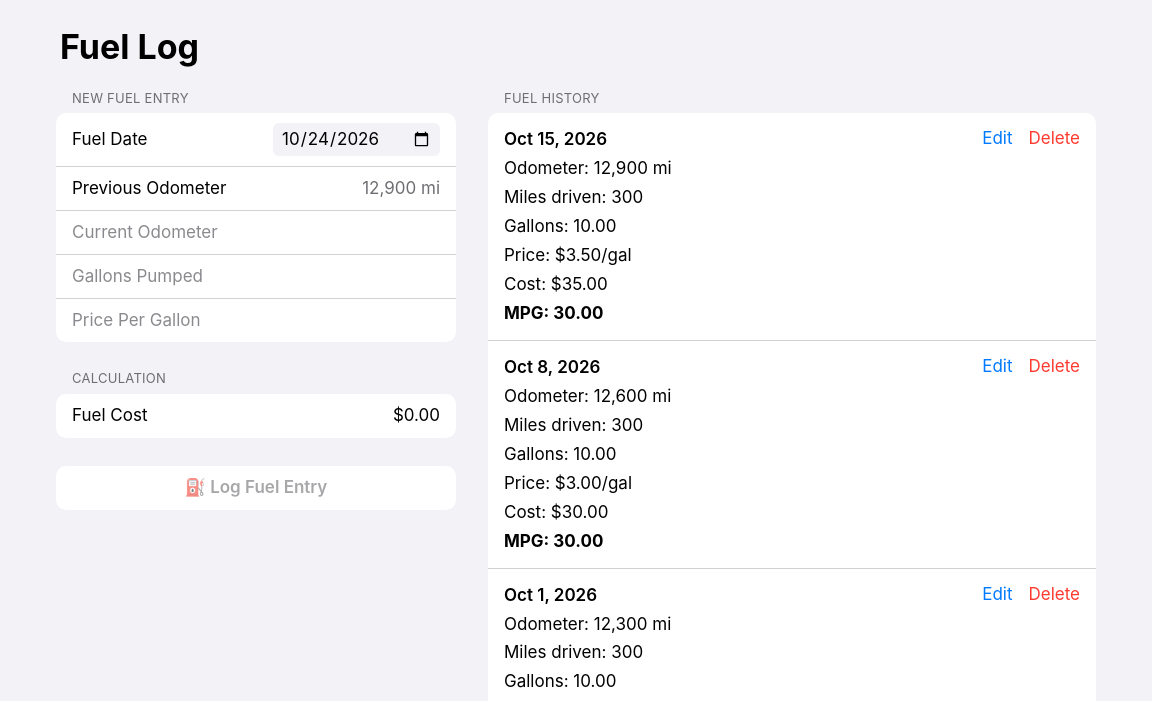
Test: editing a log › Cancel puts the row back unchanged
Expected: the text "Oct 15, 2026" is shown, [504,129,607,149]
Click the button with aria-label "Edit entry from Oct 8, 2026" at (997, 366), box [982,351,1012,382]
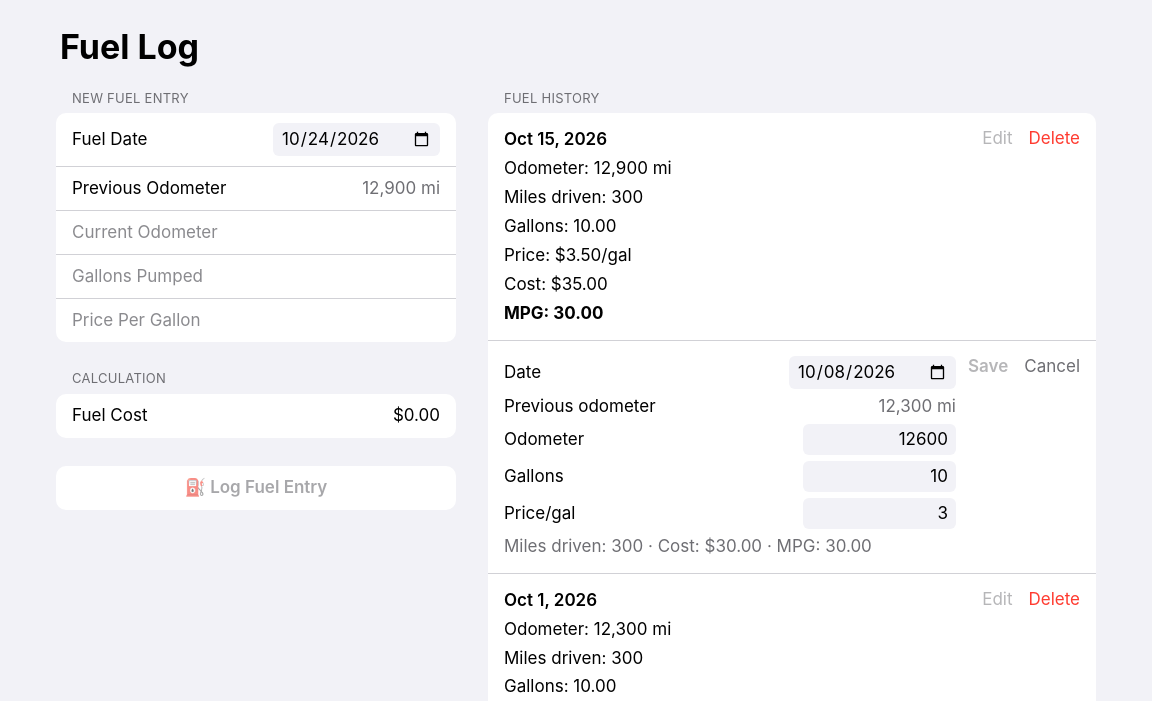
Type "5" into the field labelled "Gallons" at (880, 476), box [803,461,956,492]
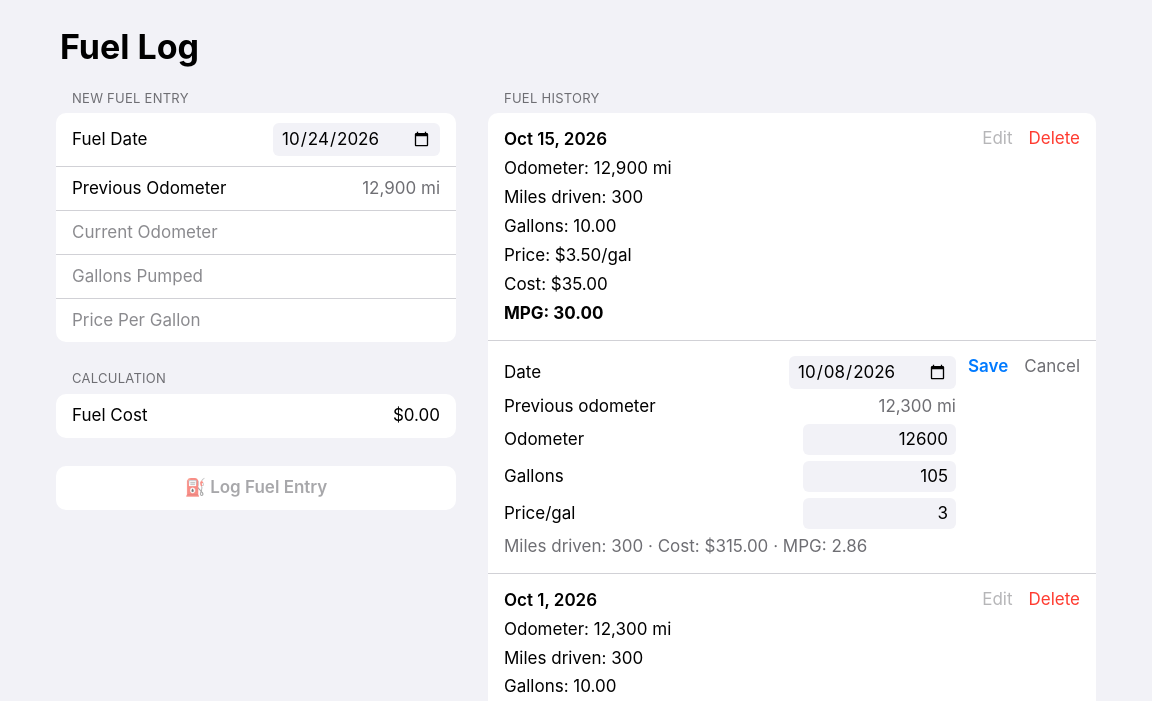
Click the button "Cancel" at (1052, 366), box [1024,351,1080,382]
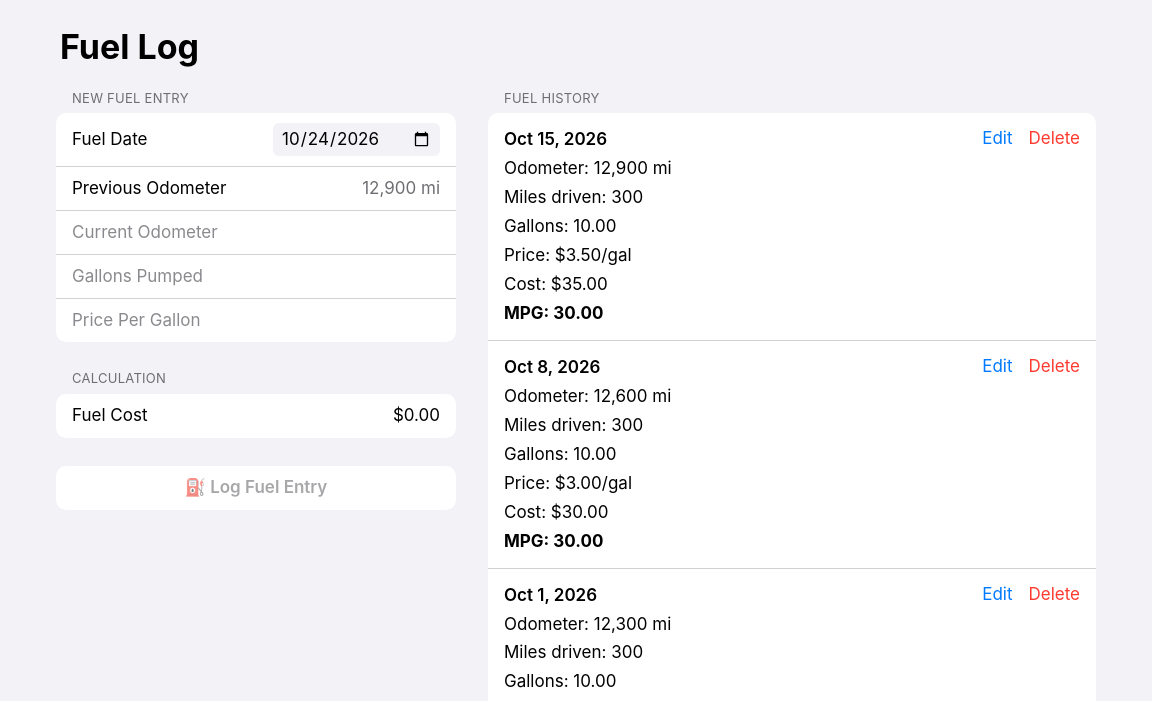
Result: the text "Gallons: 10.00" is shown 3 times at [504,216,616,236]; [504,444,616,464]; [504,671,616,691]
